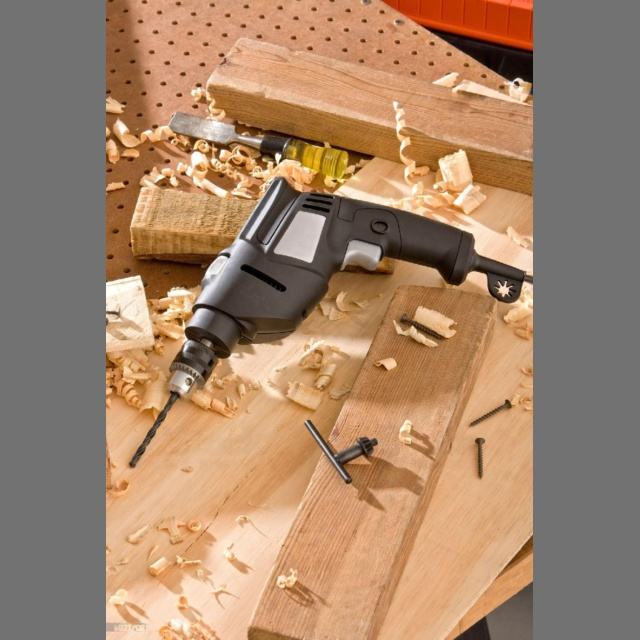drill: (161, 178, 531, 407)
